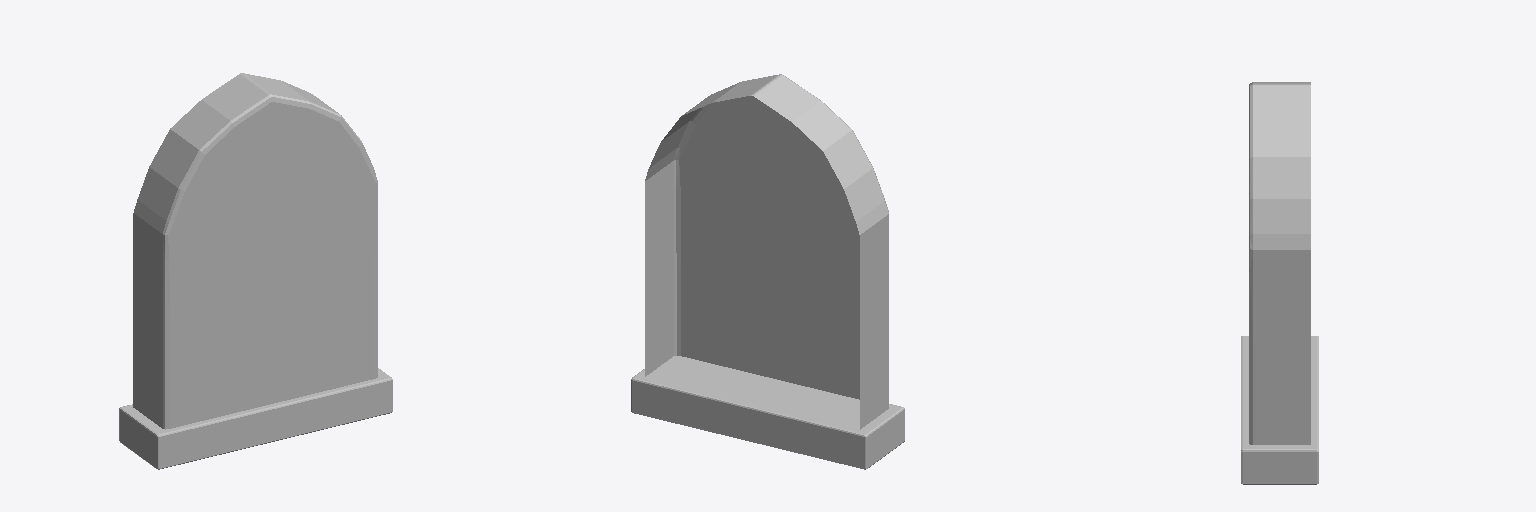
The model's file is clock-body.mtl.obj.
The picture shows the model from 3 angles: view 1: azimuth 30°, elevation 25°; view 2: azimuth 150°, elevation 25°; view 3: azimuth 270°, elevation 25°; orthographic projection.
Parts seen in each view (by area): view 1: Cylinder; view 2: Cylinder; view 3: Cylinder.
Boxes of the visible parts, box(x1,y1,x2,y2) form: Cylinder: box(119, 73, 392, 469); Cylinder: box(631, 74, 904, 469); Cylinder: box(1241, 82, 1318, 484).
Bounding box in the file's own units: 4.39 × 6.09 × 1.27.